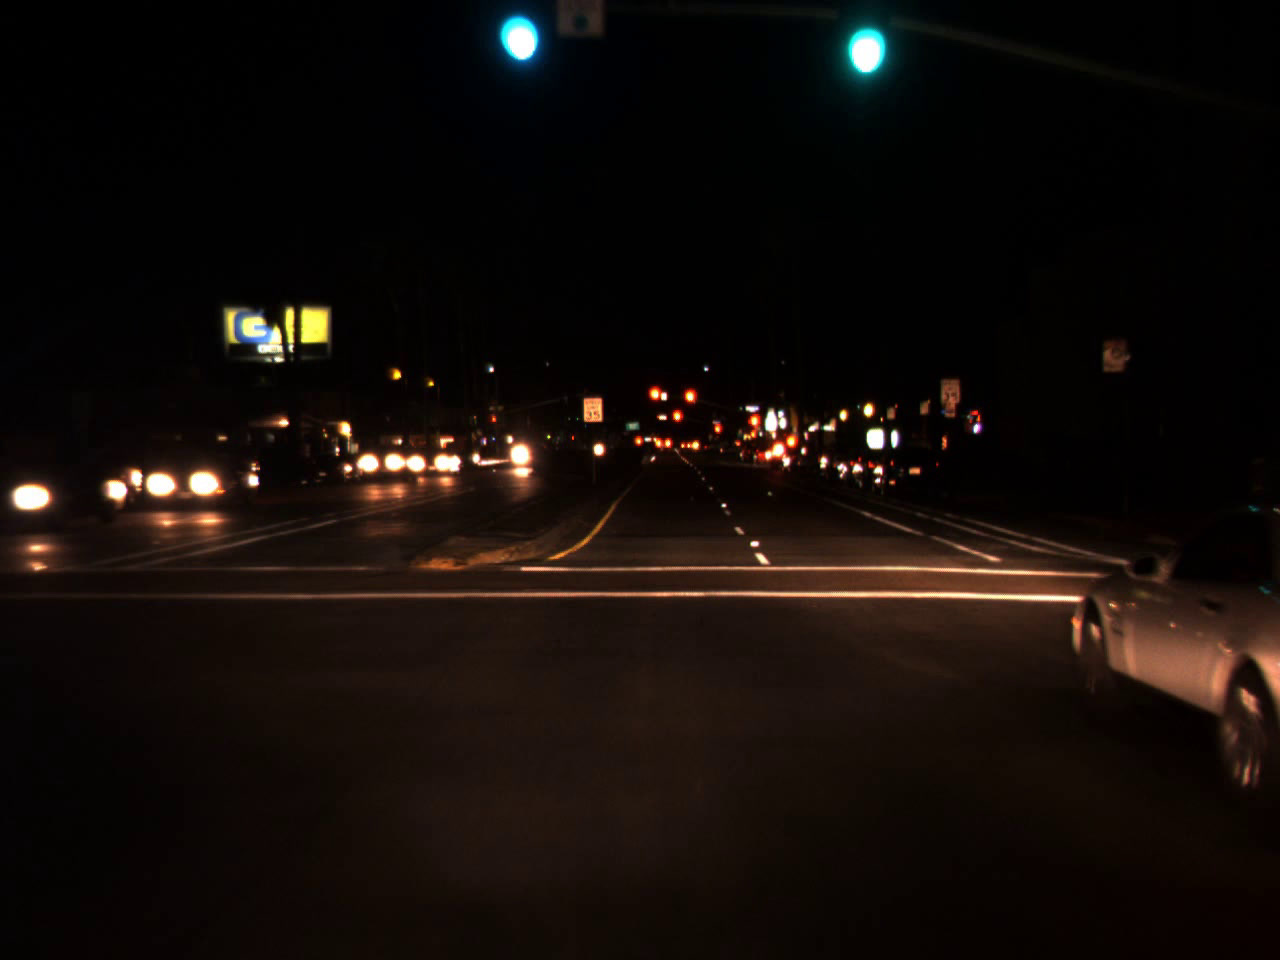go: (840, 0, 883, 83), (495, 0, 541, 72)
stop: (647, 383, 665, 418), (682, 387, 698, 419), (670, 407, 685, 439), (713, 422, 722, 438), (750, 416, 757, 432), (491, 417, 497, 427)
